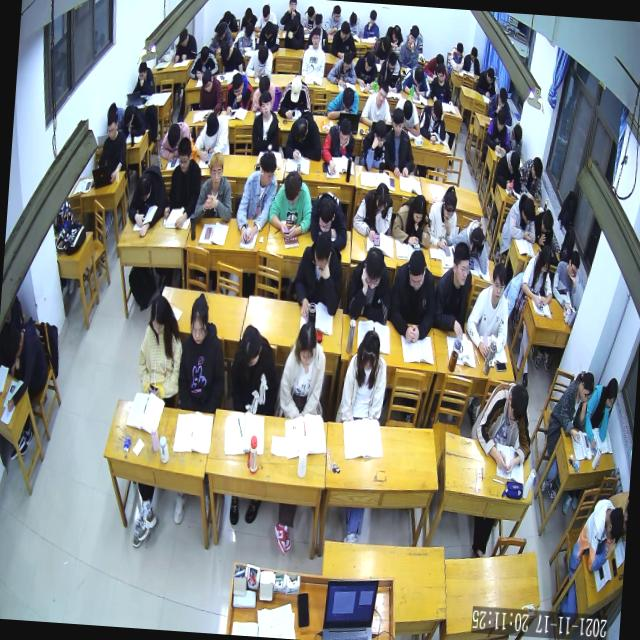bow: (126, 160, 170, 238), (308, 188, 350, 255), (389, 190, 434, 248), (283, 109, 325, 164), (451, 218, 492, 274), (501, 191, 538, 244), (278, 74, 314, 120), (158, 118, 194, 163), (324, 84, 360, 124), (493, 146, 524, 192), (398, 61, 432, 101), (325, 49, 359, 88), (392, 95, 422, 136), (188, 44, 220, 82), (352, 48, 379, 92), (120, 102, 148, 139), (531, 206, 555, 248), (254, 19, 280, 54), (368, 32, 394, 63), (422, 52, 444, 80), (384, 22, 404, 52), (448, 40, 466, 72)
down: (294, 321, 318, 369), (239, 323, 263, 370), (506, 382, 530, 428), (405, 247, 428, 293), (359, 329, 382, 374), (363, 246, 385, 291), (312, 230, 334, 274), (148, 292, 169, 336), (3, 322, 24, 363), (316, 192, 336, 232), (283, 170, 303, 207), (175, 135, 193, 173), (578, 370, 596, 407), (134, 172, 153, 205), (372, 180, 390, 214), (410, 194, 428, 226), (441, 188, 458, 221), (603, 375, 619, 409), (468, 224, 485, 255), (371, 120, 387, 150), (292, 115, 308, 144), (520, 196, 536, 225), (204, 110, 220, 138), (337, 119, 352, 148), (390, 105, 404, 136), (105, 111, 119, 141), (166, 122, 181, 150), (538, 244, 552, 274), (566, 250, 580, 280), (341, 86, 355, 114), (289, 76, 303, 104), (230, 72, 245, 98), (540, 207, 555, 233), (200, 68, 214, 95), (530, 156, 544, 182), (122, 104, 136, 129), (362, 51, 376, 74), (256, 44, 270, 66), (508, 149, 520, 174), (401, 99, 414, 122), (511, 123, 524, 146), (495, 108, 507, 132), (431, 98, 444, 120), (218, 42, 232, 62), (242, 20, 255, 41), (340, 50, 352, 72), (386, 52, 398, 74), (136, 59, 147, 82), (434, 62, 446, 83), (412, 65, 424, 86), (258, 75, 270, 96), (262, 20, 274, 40), (380, 33, 391, 54), (497, 85, 508, 106), (216, 22, 227, 42), (288, 16, 299, 36), (178, 27, 188, 48), (199, 45, 209, 66), (392, 22, 402, 42), (368, 7, 378, 26), (468, 45, 479, 62), (485, 68, 495, 86), (455, 41, 464, 60)
lookup: (187, 298, 210, 347), (450, 242, 471, 288), (207, 152, 226, 192), (490, 262, 508, 302), (258, 90, 272, 118), (376, 81, 390, 107), (310, 26, 322, 48), (407, 26, 418, 46)
sit: (173, 293, 230, 417), (470, 376, 536, 475), (134, 293, 185, 410), (225, 320, 279, 422), (289, 230, 347, 322), (386, 246, 440, 344), (277, 318, 328, 420), (338, 326, 391, 424), (0, 316, 51, 415), (463, 260, 512, 362), (429, 240, 476, 341), (233, 148, 280, 246), (570, 496, 626, 576), (162, 134, 204, 233), (345, 245, 394, 326), (546, 366, 596, 444), (267, 168, 314, 240), (193, 150, 236, 226), (381, 104, 418, 180), (350, 179, 394, 242), (583, 373, 619, 446), (95, 110, 128, 184), (519, 242, 556, 308), (319, 116, 357, 179), (248, 89, 282, 158), (192, 109, 233, 163), (426, 185, 459, 252), (550, 247, 581, 310), (360, 77, 394, 129), (358, 119, 390, 174), (416, 98, 448, 146), (300, 24, 328, 78), (223, 70, 254, 118), (197, 67, 224, 121), (518, 154, 545, 204), (483, 108, 512, 154), (376, 50, 404, 94), (329, 18, 358, 59), (486, 84, 514, 124), (429, 60, 454, 104), (244, 44, 274, 80), (396, 26, 421, 69), (217, 41, 247, 75), (250, 75, 276, 114), (173, 27, 198, 64), (208, 20, 234, 55), (132, 60, 157, 96), (232, 20, 256, 56), (475, 64, 498, 98), (284, 16, 306, 51), (362, 7, 382, 40), (506, 121, 524, 156), (462, 46, 482, 76)
